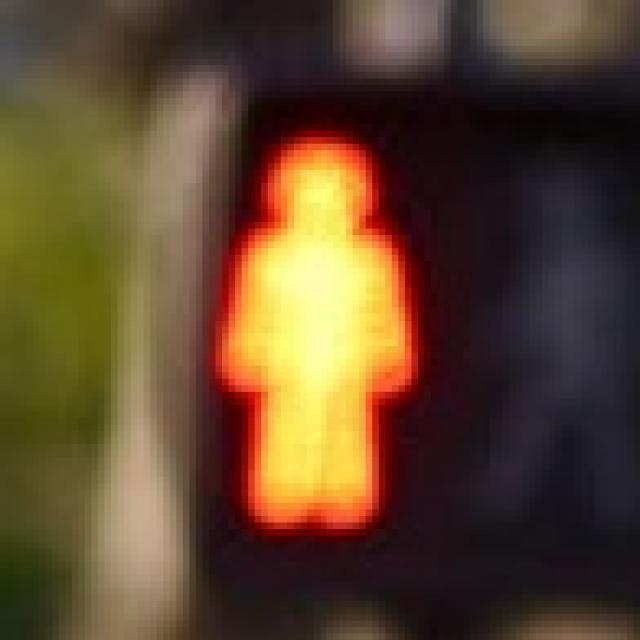red-crossing: (176, 105, 444, 542)
